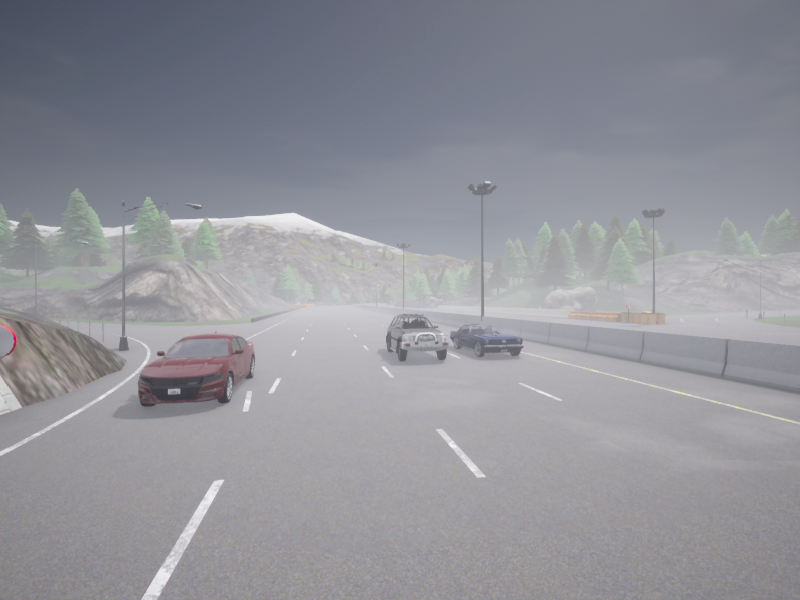vehicle: (138, 331, 254, 406), (386, 313, 448, 360), (450, 323, 523, 356), (387, 301, 392, 304)
